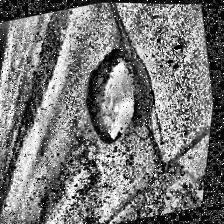pothole: (70, 41, 154, 149)
